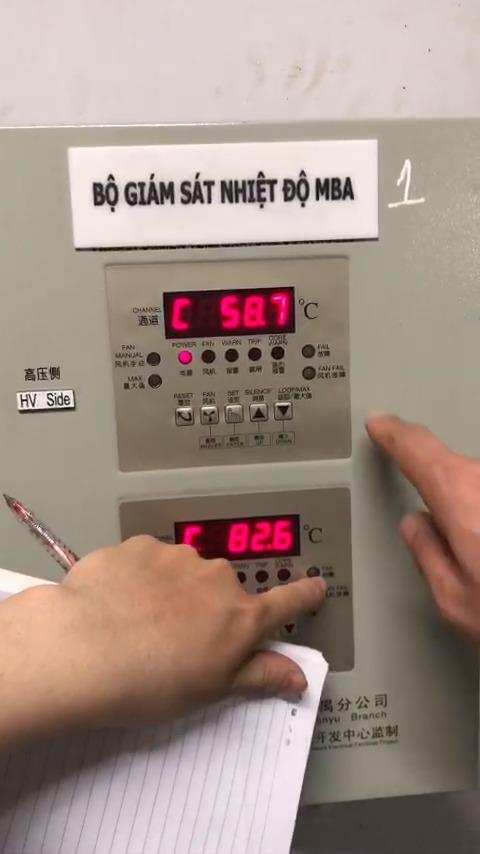led: (176, 350, 194, 366), (300, 343, 317, 359), (247, 346, 264, 362), (146, 351, 162, 368), (147, 373, 164, 389), (200, 349, 218, 364), (254, 569, 270, 585), (271, 346, 286, 362), (224, 348, 240, 363), (302, 366, 317, 381), (234, 569, 249, 584), (277, 567, 292, 581), (306, 566, 322, 579)
